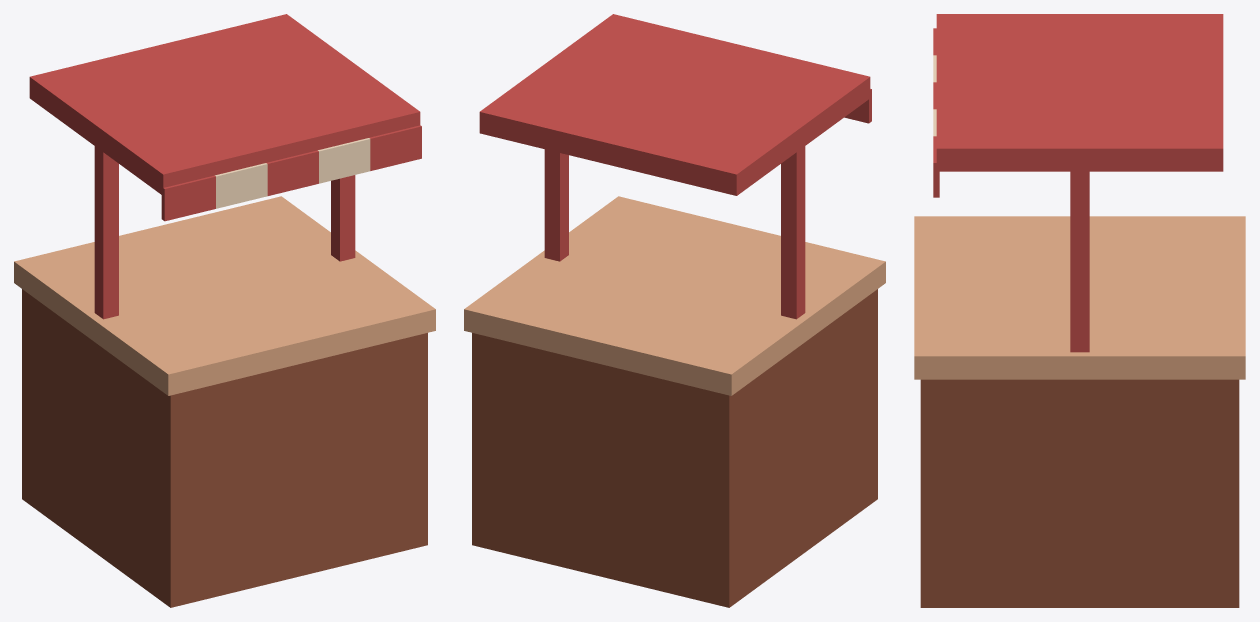
The model's file is serving-hatch.glb.
3 views of the same model, side by side, from view 1: azimuth 30°, elevation 25°; view 2: azimuth 150°, elevation 25°; view 3: azimuth 270°, elevation 25° (orthographic). The views are drawn at different scales.
Visible parts, largest first — view 1: serving-hatch; view 2: serving-hatch; view 3: serving-hatch.
Part boxes in pixels (left/top/right/bottom): serving-hatch: left=14, top=14, right=435, bottom=607; serving-hatch: left=464, top=14, right=885, bottom=607; serving-hatch: left=914, top=14, right=1245, bottom=607.
Size of the model in its own units: 1.04 by 1.59 by 1.04.
Materials: 1 (1 with a texture image).
